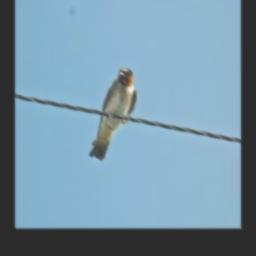Swallow: (87, 65, 137, 161)
